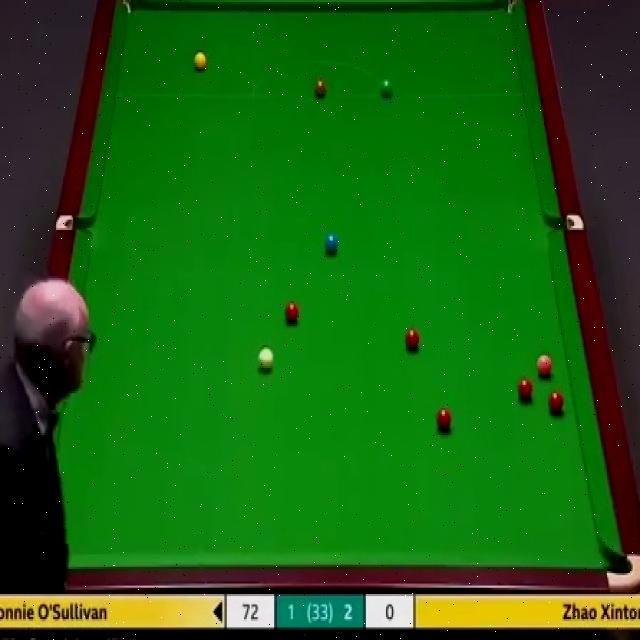blue-ball: (324, 230, 338, 256)
brown-ball: (313, 78, 328, 97)
green-ball: (379, 76, 394, 99)
pink-ball: (536, 354, 551, 378)
red-ball: (404, 327, 422, 355), (434, 409, 453, 435), (547, 390, 564, 413), (284, 300, 299, 322), (518, 377, 533, 397)
white-ball: (258, 345, 272, 374)
yellow-ball: (194, 53, 207, 72)
